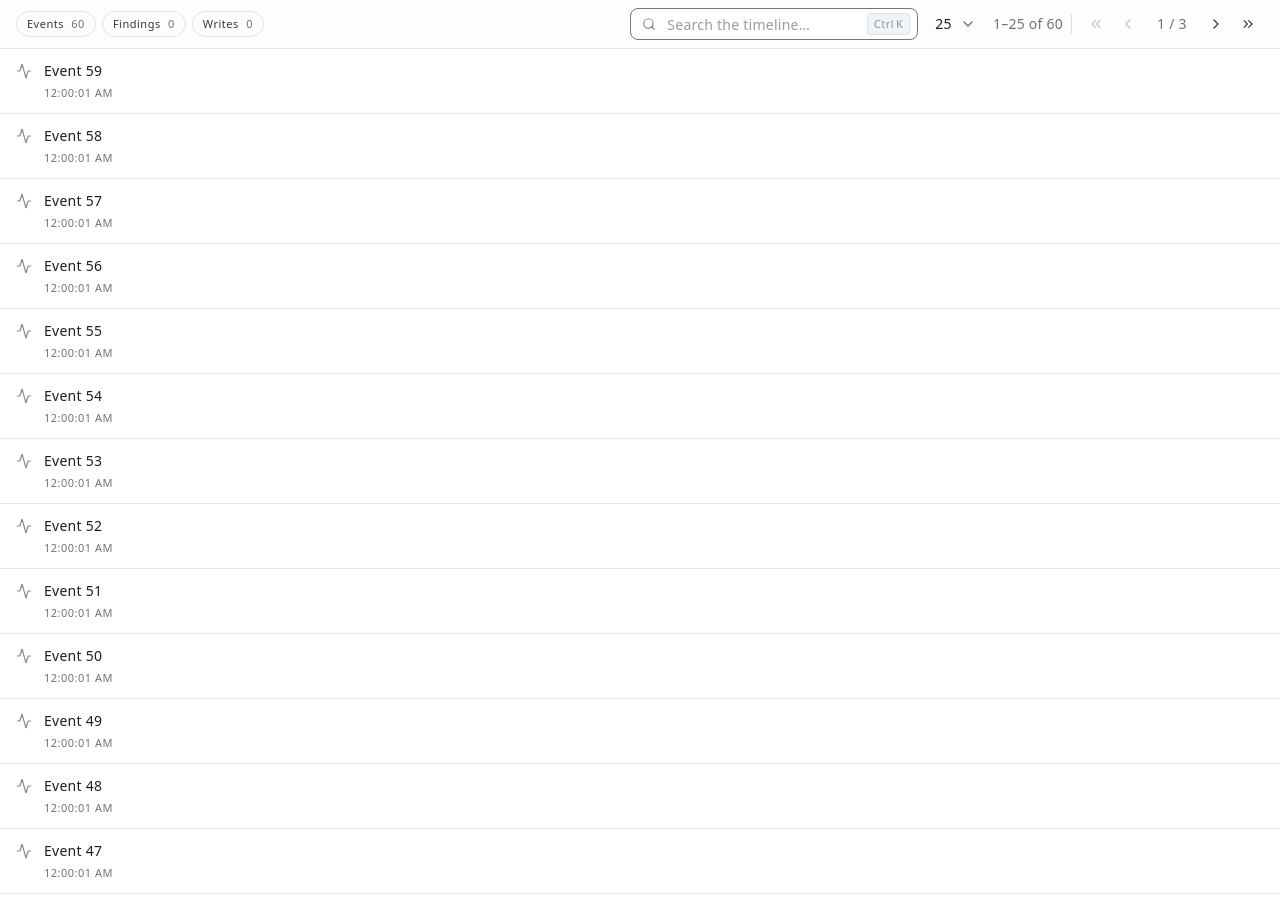
Test case: the timeline pager › counts pages from 1, as every other pager does
Expected: the text "Event 25" is not shown
Click the button named "Next page": (1216, 24) [1200, 8, 1232, 40]
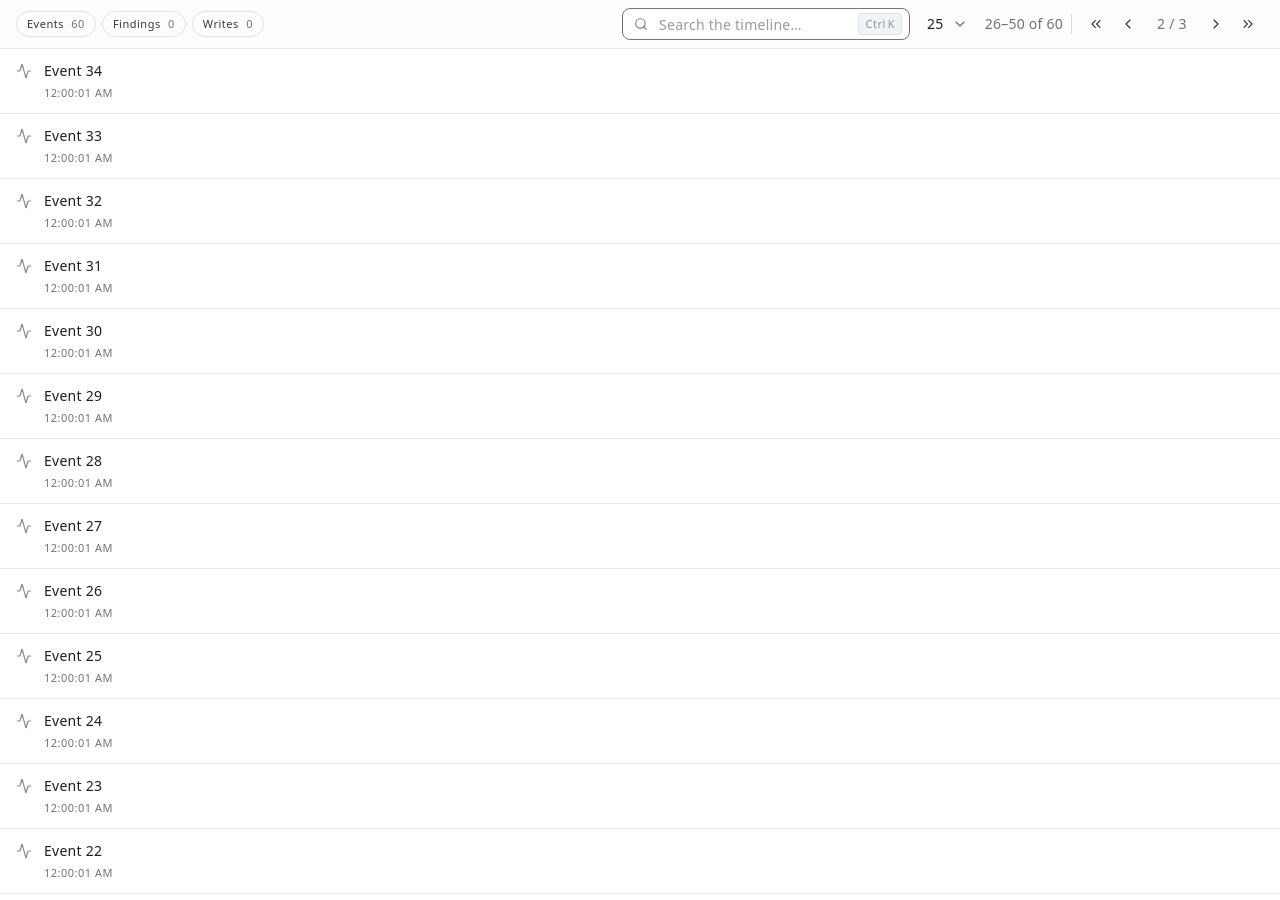
Now the text "2 / 3" is shown, box [1157, 14, 1187, 33]
Now the text "Event 25" is shown, box [44, 646, 102, 666]
Click the button named "First page": (1096, 24) [1080, 8, 1112, 40]
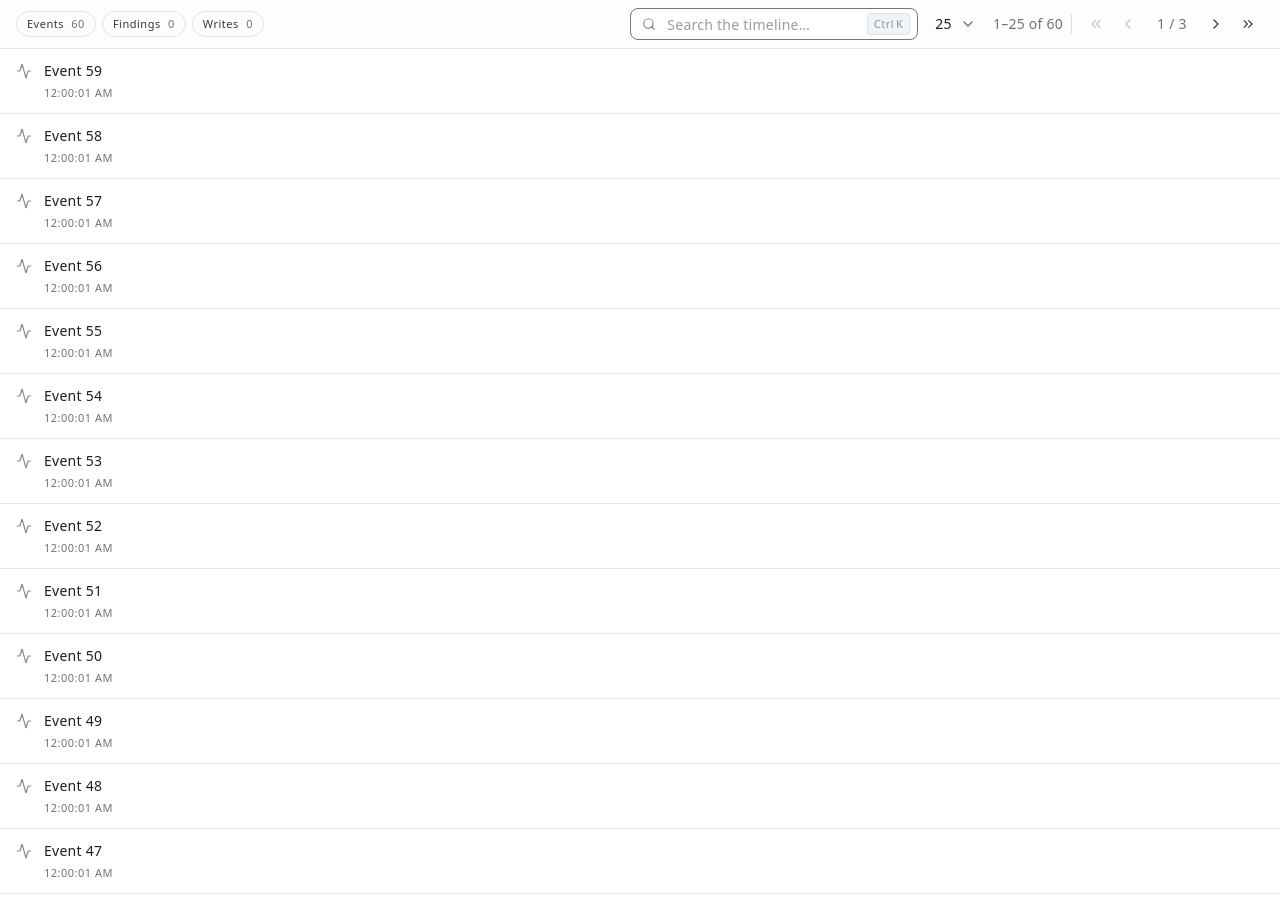
Now the text "1 / 3" is shown, box [1157, 14, 1187, 33]
Now the text "Event 59" is shown, box [44, 61, 102, 81]
